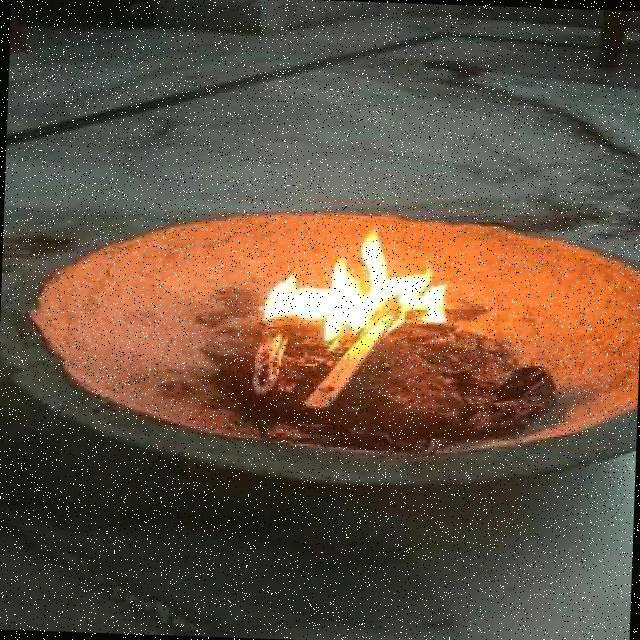Fire: (213, 213, 484, 378)
